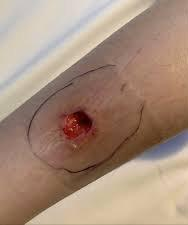Spider: (15, 53, 154, 192)
